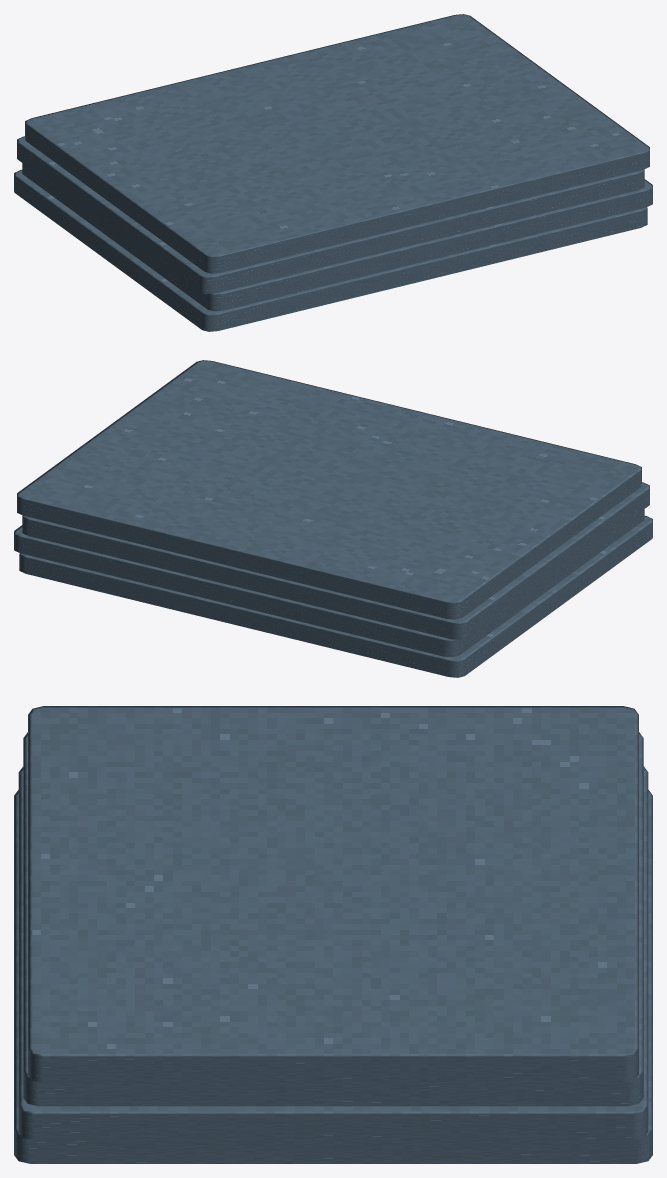
Rendered from rag.glb.
3 renders of one model, top to bottom at view 1: azimuth 30°, elevation 25°; view 2: azimuth 150°, elevation 25°; view 3: azimuth 270°, elevation 25°, orthographic. The views are drawn at different scales.
Visible parts, largest first — view 1: fold (×4); view 2: fold (×4); view 3: fold (×4).
Part boxes in pixels (<box>): fold (×4): <box>14,14,652,331</box>; fold (×4): <box>14,360,652,677</box>; fold (×4): <box>14,706,652,1163</box>.
Bounding box in the file's own units: 0.266 × 0.0396 × 0.2016.
1 material, 1 textured.
